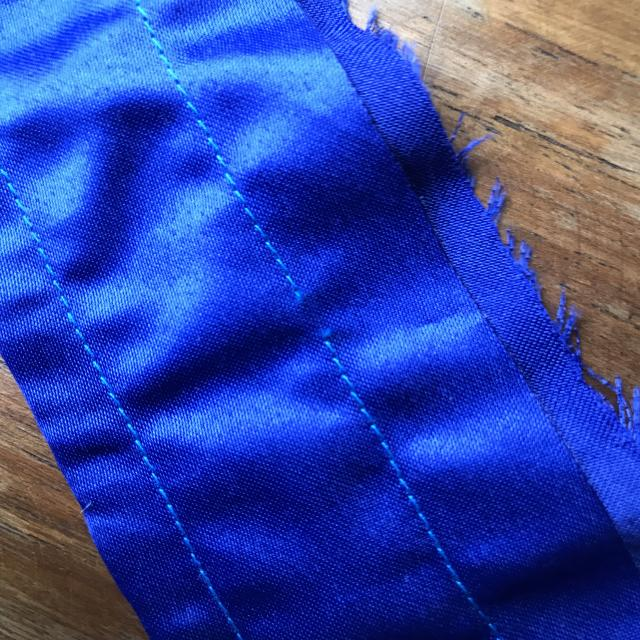broken: (271, 270, 365, 366)
good: (116, 407, 195, 510)
